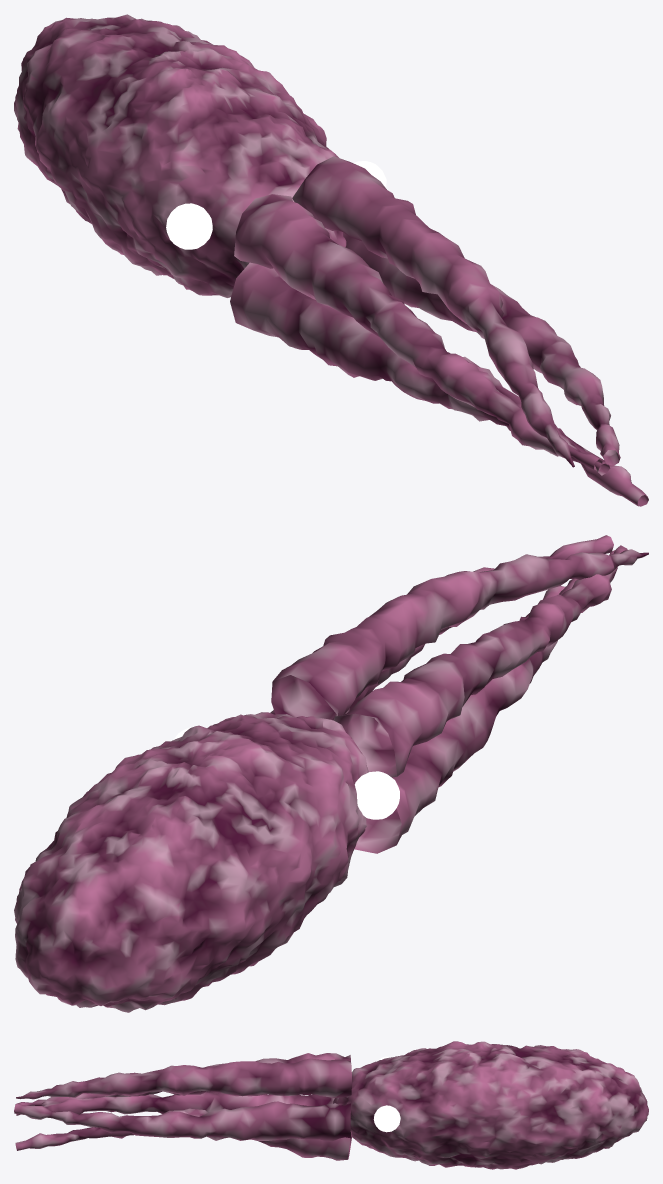
The model's file is ixil_small.glb.
The picture shows the model from 3 angles, top to bottom: view 1: azimuth 30°, elevation 25°; view 2: azimuth 150°, elevation 25°; view 3: azimuth 270°, elevation 25°; orthographic projection. The views are drawn at different scales.
Parts seen in each view (by area): view 1: ixil_small.001; view 2: ixil_small.001; view 3: ixil_small.001.
Part boxes in pixels (x1,y1,x2,y2): ixil_small.001: (14,14,648,506); ixil_small.001: (14,535,648,1012); ixil_small.001: (14,1041,648,1169).
Bounding box in the file's own units: 2.24 × 2 × 10.
